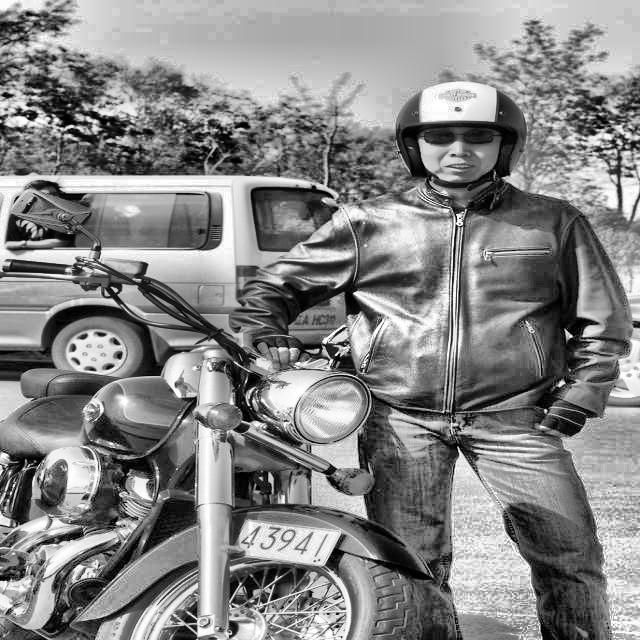Helmet: (383, 74, 535, 195)
